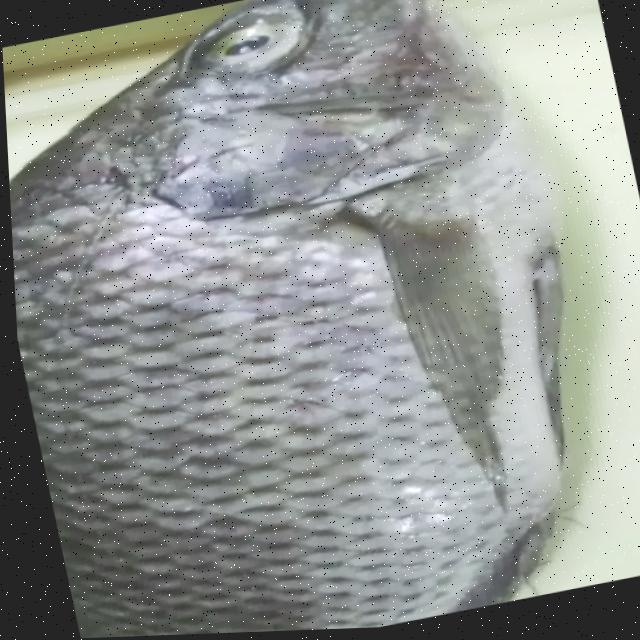Non-Fresh: (3, 61, 595, 640)
